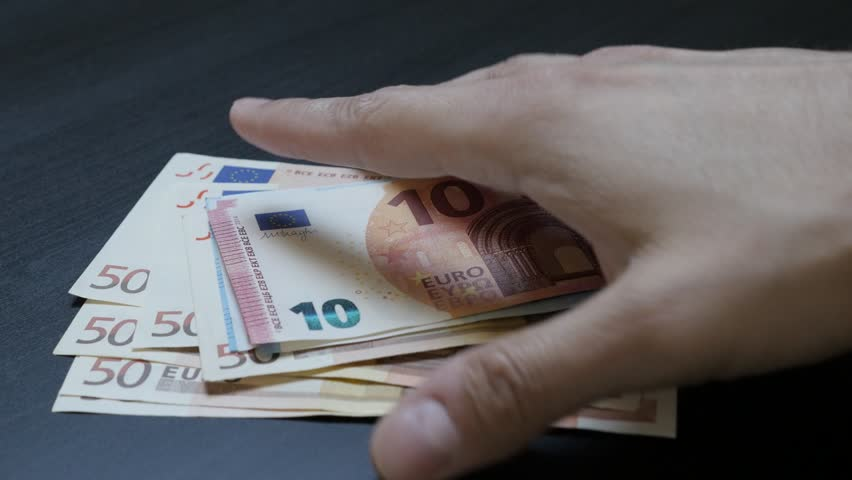billete: (48, 147, 685, 440)
